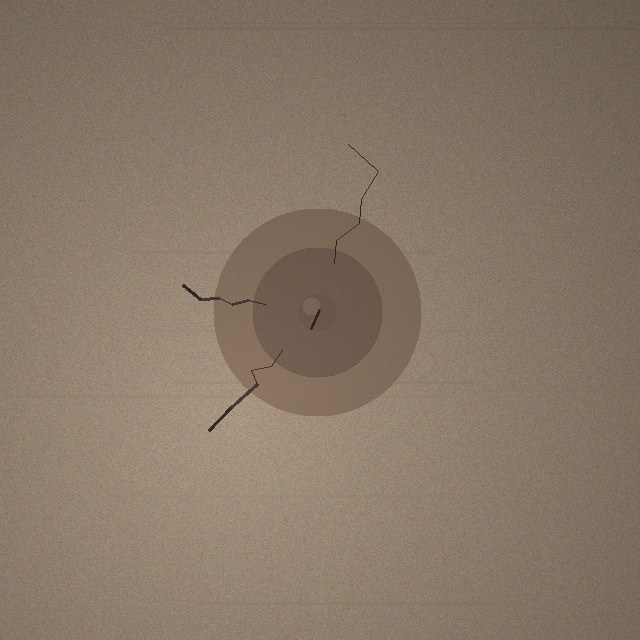crack: (213, 208, 421, 416)
